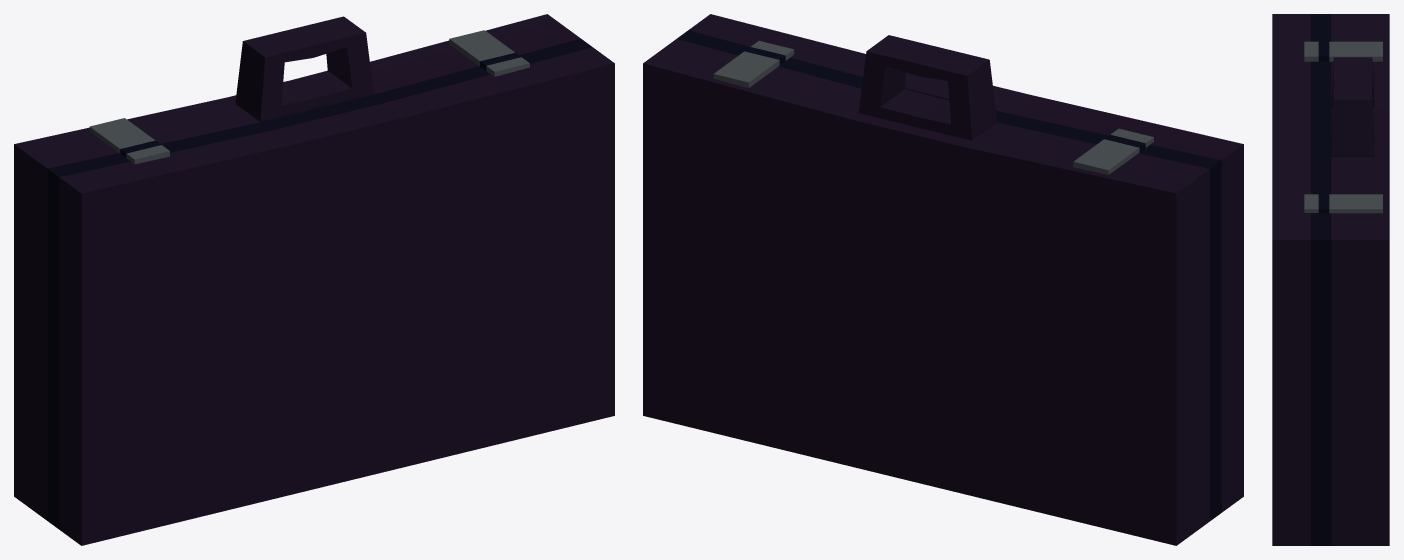
Rendered from Theftable_Briefcase_Black.fbx.
3 renders of one model, left to right at view 1: azimuth 30°, elevation 25°; view 2: azimuth 150°, elevation 25°; view 3: azimuth 270°, elevation 25°, orthographic. The views are drawn at different scales.
Parts seen in each view (by area): view 1: Cube.221; view 2: Cube.221; view 3: Cube.221.
Part boxes in pixels (box(x1,y1,x2,y2)): Cube.221: box(14, 14, 614, 545); Cube.221: box(643, 14, 1243, 545); Cube.221: box(1272, 14, 1389, 545).
Bounding box in the file's own units: 55.71 × 40.85 × 12.21.
